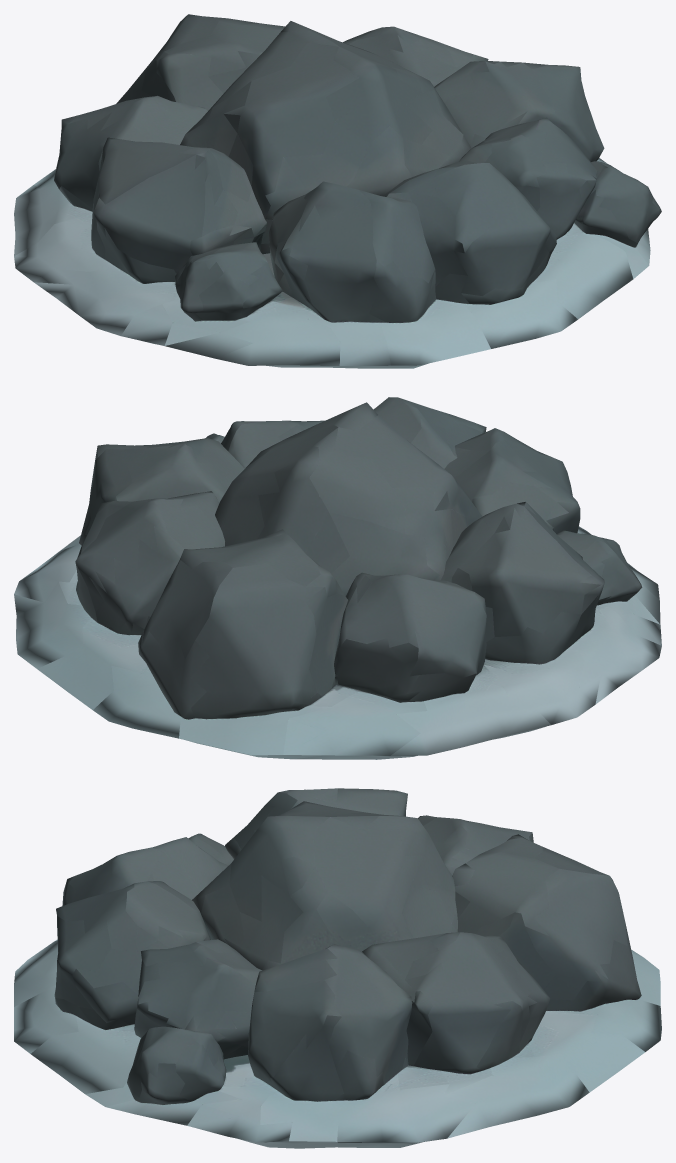
Rendered from coal-node.glb.
3 views of the same model, one above another, from view 1: azimuth 30°, elevation 25°; view 2: azimuth 150°, elevation 25°; view 3: azimuth 270°, elevation 25° (orthographic).
Bounding box in the file's own units: 1 × 0.3906 × 0.998.
1 material, 1 textured.
